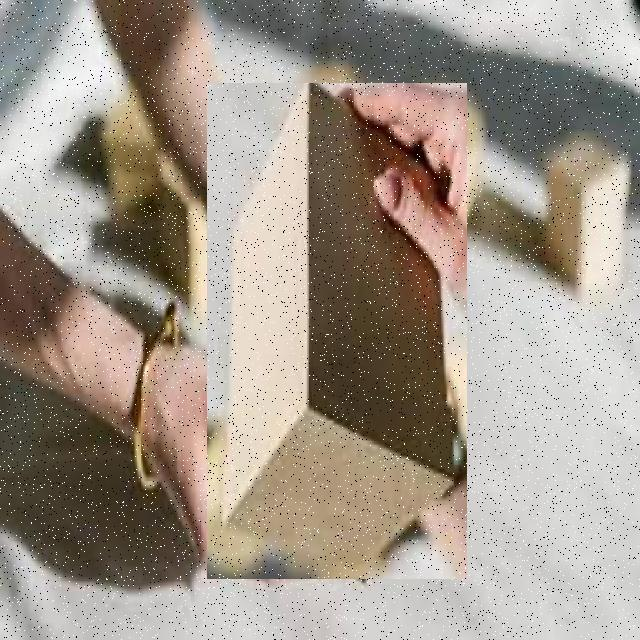normal: (208, 83, 468, 579)
